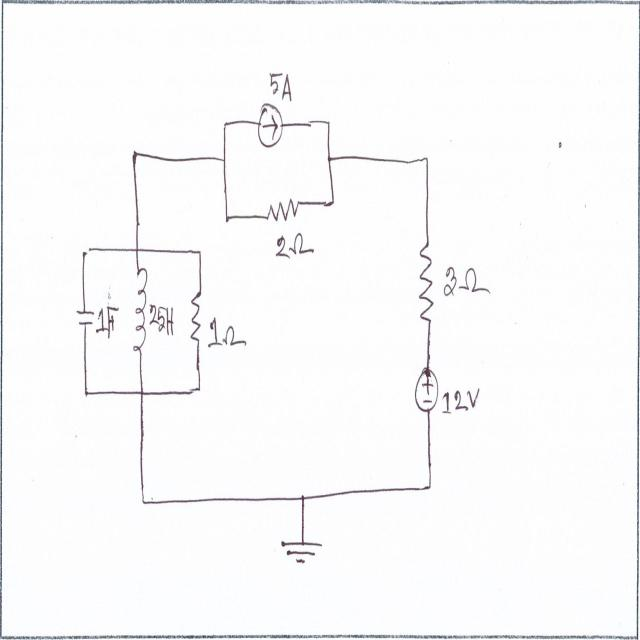capacitor: (73, 303, 95, 332)
current_source: (256, 97, 286, 152)
ground: (280, 534, 329, 568)
inductor: (132, 264, 150, 354)
resistor: (416, 234, 437, 330), (264, 189, 302, 227), (188, 286, 205, 352)
voltage_source: (415, 364, 439, 422)
